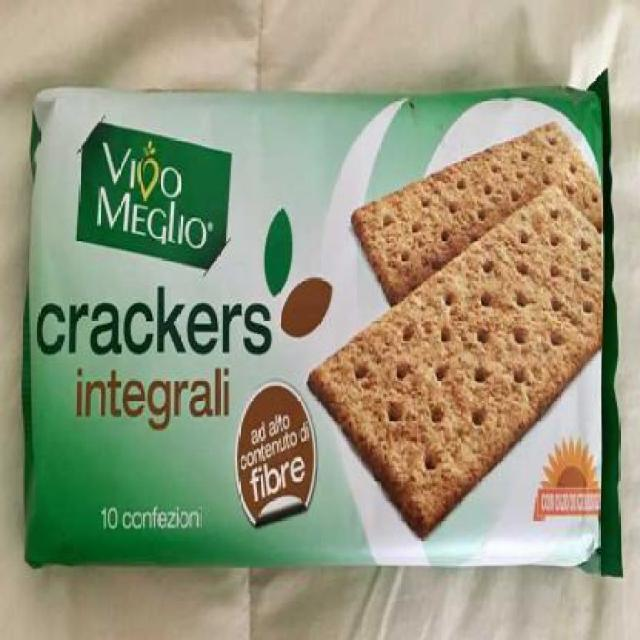Cracker: (17, 72, 623, 596)
